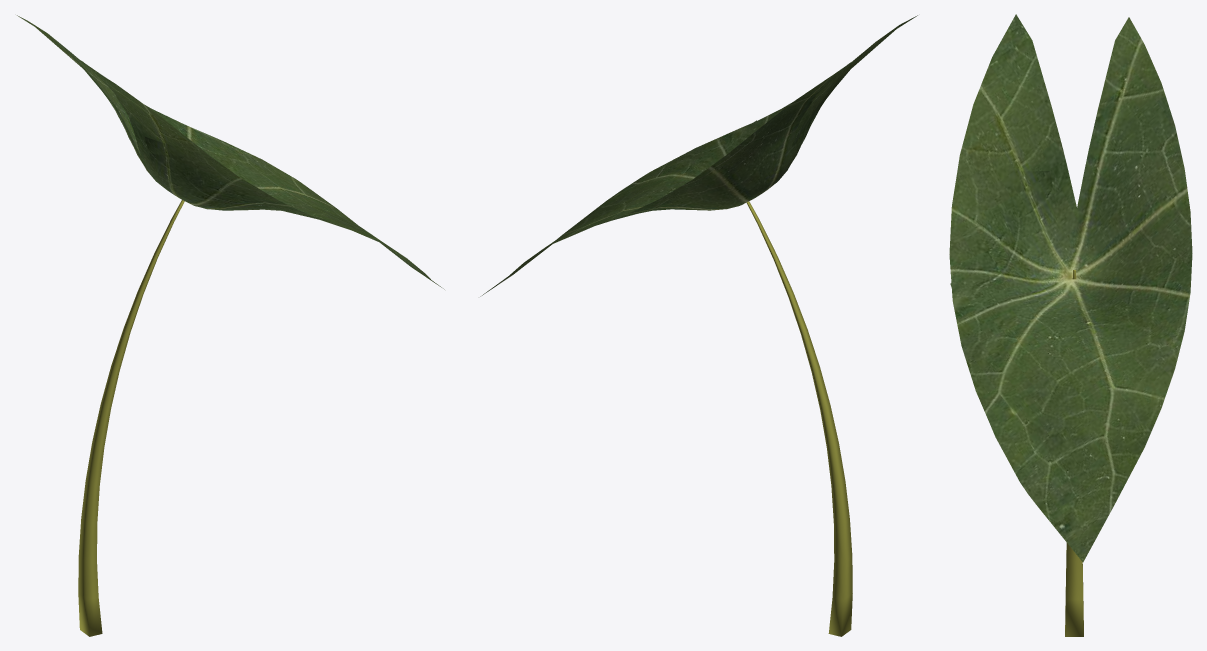
File: Leaf_1.dae
3 views of the same model, side by side, from view 1: azimuth 30°, elevation 25°; view 2: azimuth 150°, elevation 25°; view 3: azimuth 270°, elevation 25° (orthographic). The views are drawn at different scales.
Parts seen in each view (by area): view 1: group_2, group_1; view 2: group_2, group_1; view 3: group_2, group_1.
Part boxes in pixels (left/top/right/bottom): group_2: left=17, top=15, right=444, bottom=289; group_1: left=78, top=200, right=184, bottom=636; group_2: left=480, top=15, right=917, bottom=296; group_1: left=746, top=201, right=852, bottom=636; group_2: left=949, top=14, right=1192, bottom=562; group_1: left=1065, top=270, right=1083, bottom=636.
Bounding box in the file's own units: 19.86 × 10.42 × 28.18.
2 materials, 1 textured.
